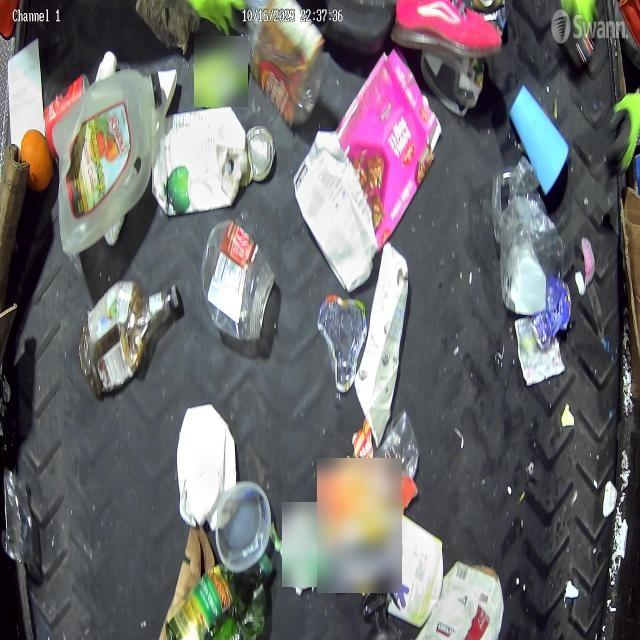non_white_jug: (57, 64, 160, 260)
